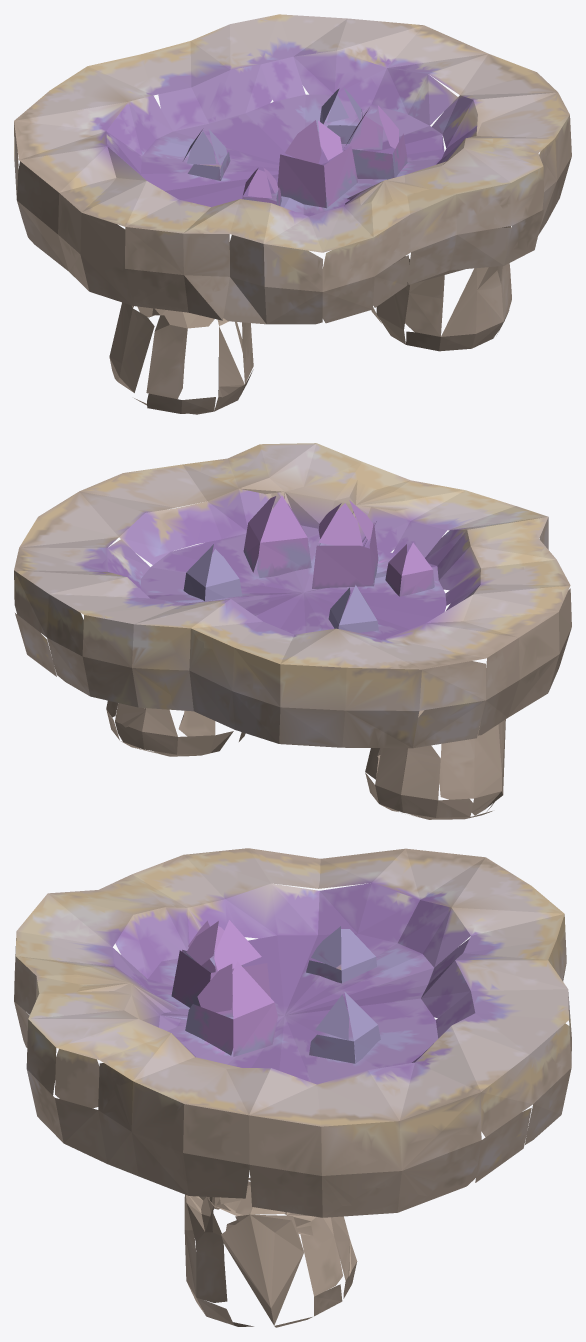
Rendered from g_e_geode.glb.
The picture shows the model from 3 angles, top to bottom: view 1: azimuth 30°, elevation 25°; view 2: azimuth 150°, elevation 25°; view 3: azimuth 270°, elevation 25°; orthographic projection. The views are drawn at different scales.
Visible parts, largest first — view 1: geometry_0; view 2: geometry_0; view 3: geometry_0.
Part boxes in pixels (x1,y1,x2,y2): geometry_0: (14,14,571,414); geometry_0: (14,443,571,819); geometry_0: (14,848,571,1327).
Size of the model in its own units: 0.1938 by 0.0992 by 0.1641.
